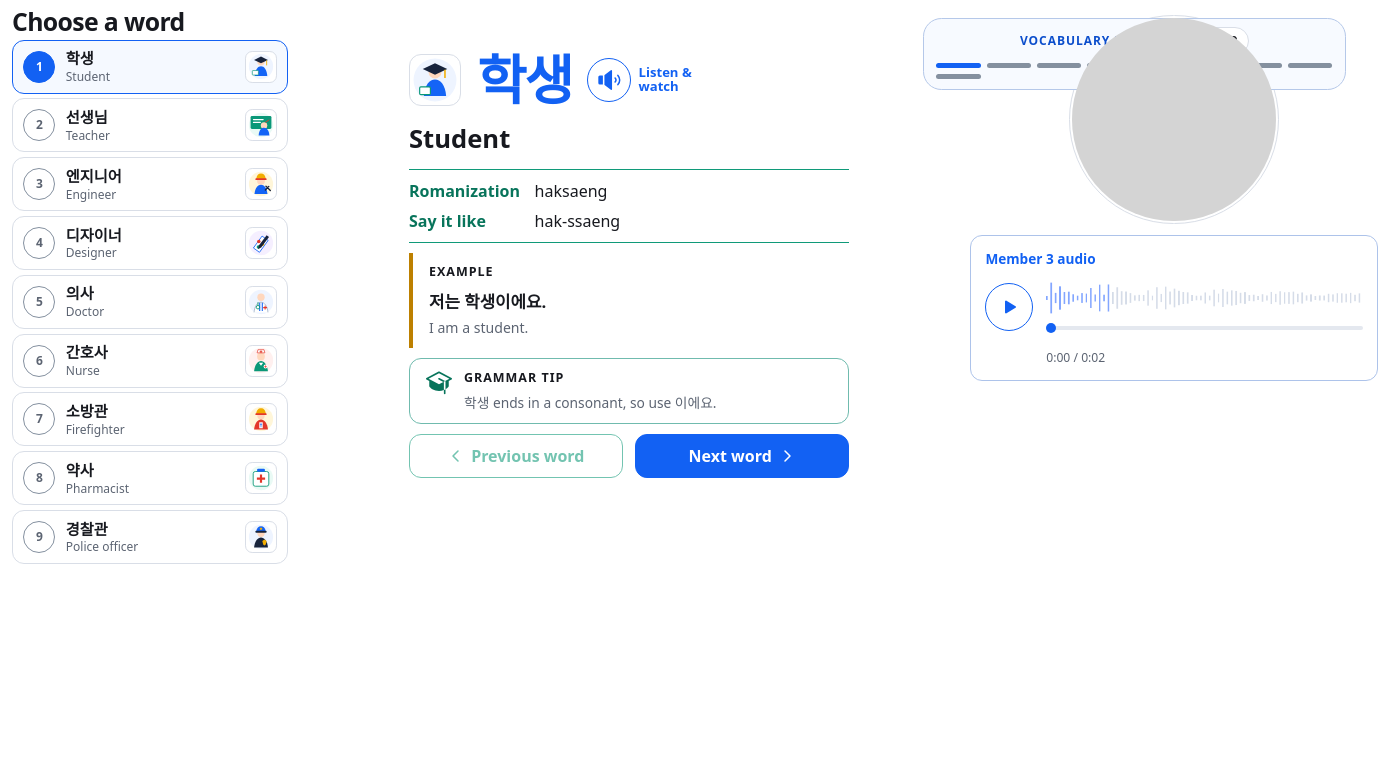
it: VocabularyJourney › enables the shared listen control and separate media player for a recorded word
Check: the button with aria-label "Listen & watch" is enabled, box [587,58,692,102]
Check: the element named "Member 3 audio player" shows "0:00 / 0:02", box [1046,349,1105,366]
Click the button "5 의사 Doctor": (39, 302) [12,275,288,329]
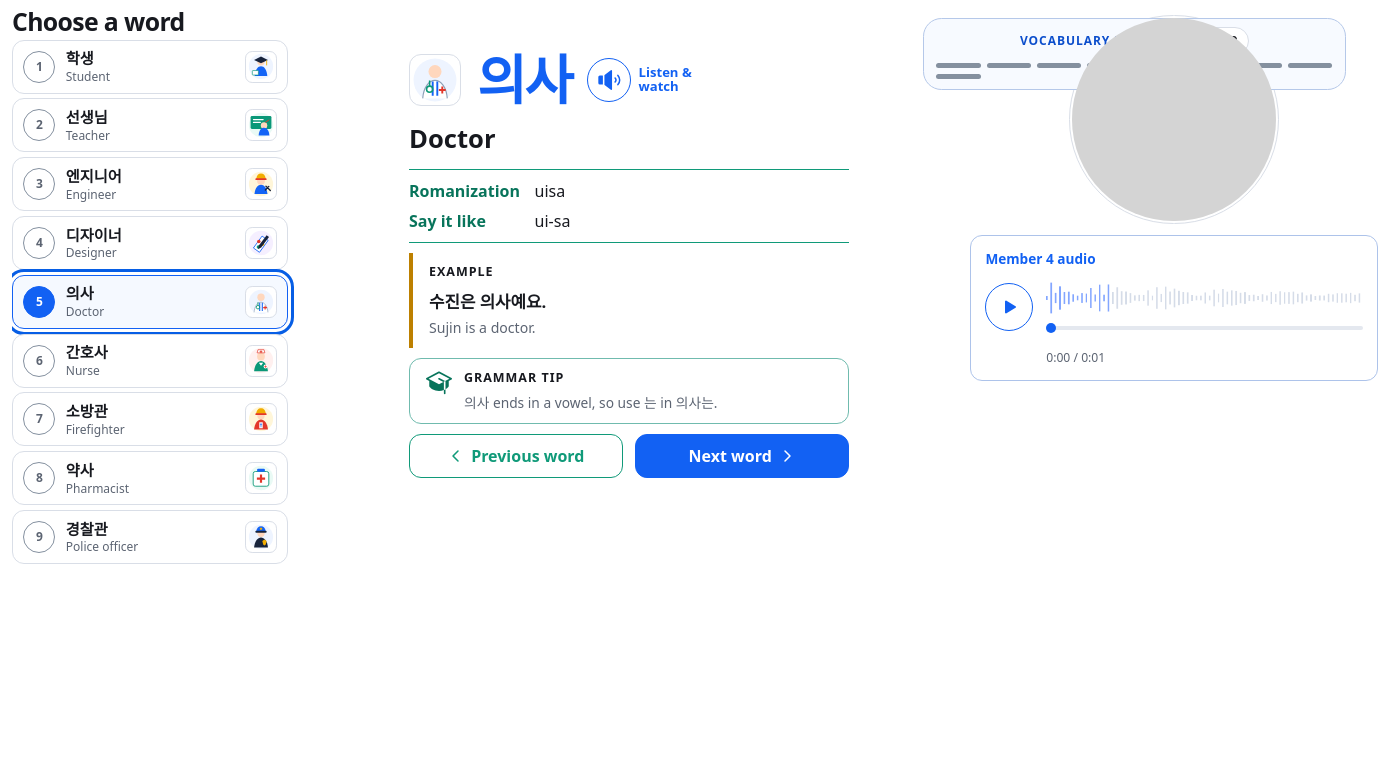
Check: the button with aria-label "Listen & watch" is enabled, box [587,58,692,102]
Check: the element named "Member 4 audio player" shows "0:00 / 0:01", box [1046,349,1105,366]
